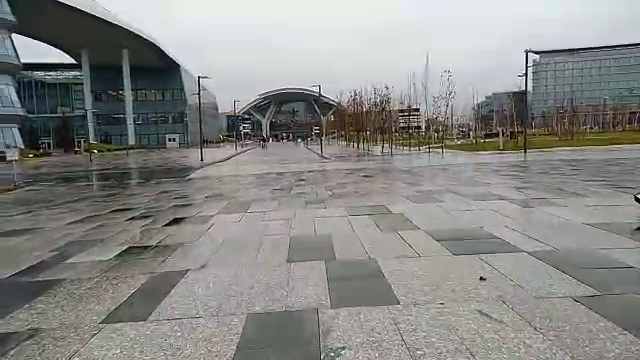mega: (235, 85, 355, 152)
